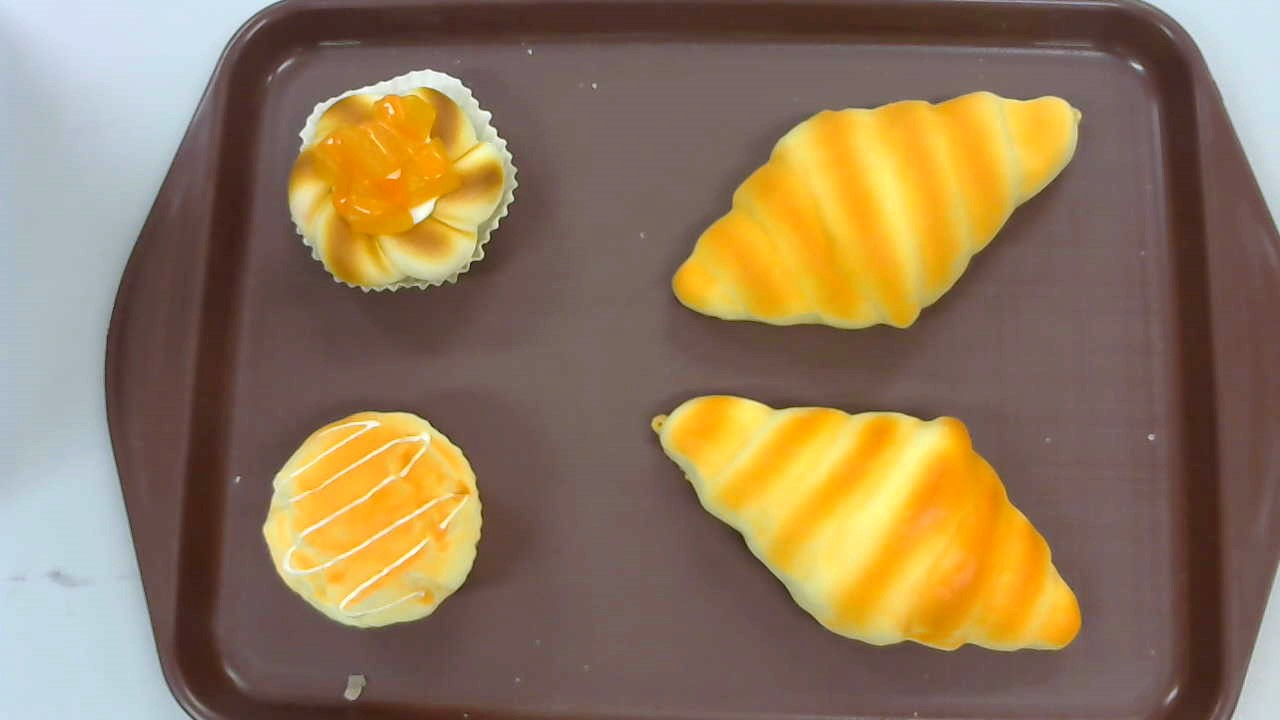croissant: (650, 391, 1082, 653), (672, 88, 1081, 333)
cupcake: (263, 410, 483, 629)
mango tart: (288, 69, 518, 296)
